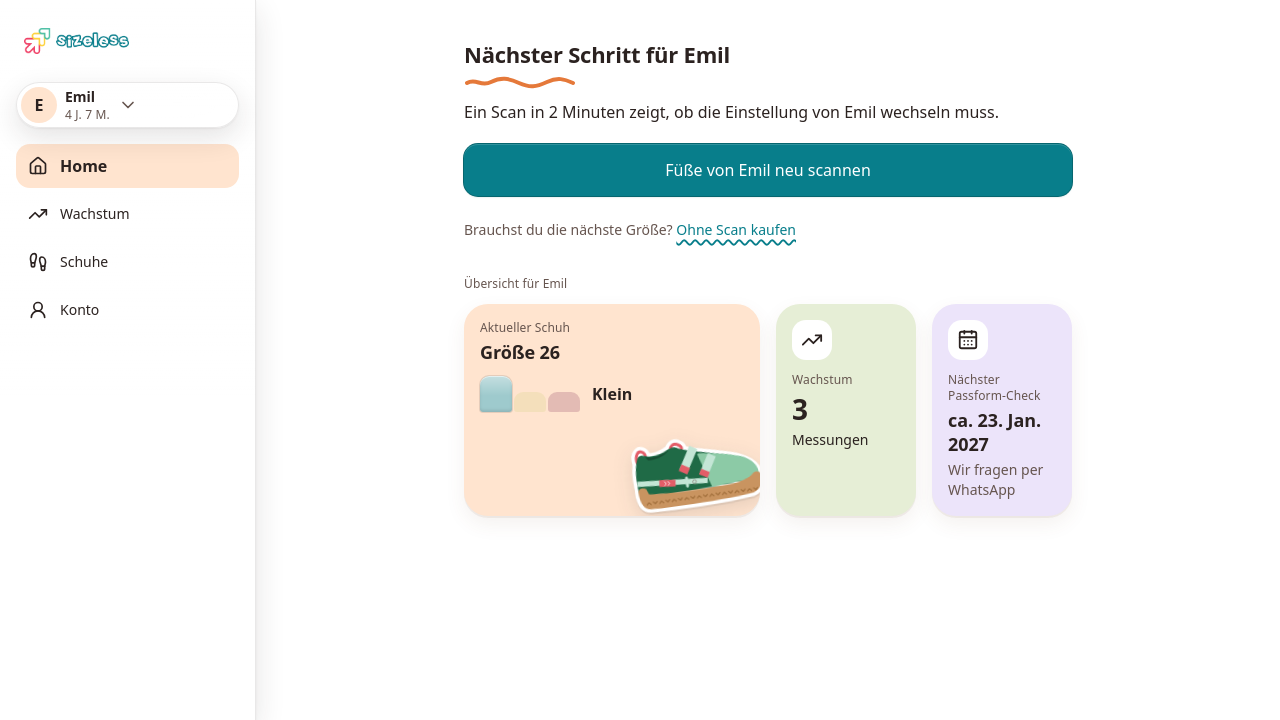
Test: routing › signs out back to Sign in
Click the link "Konto". click: [64, 310]
box: [28,300,99,320]
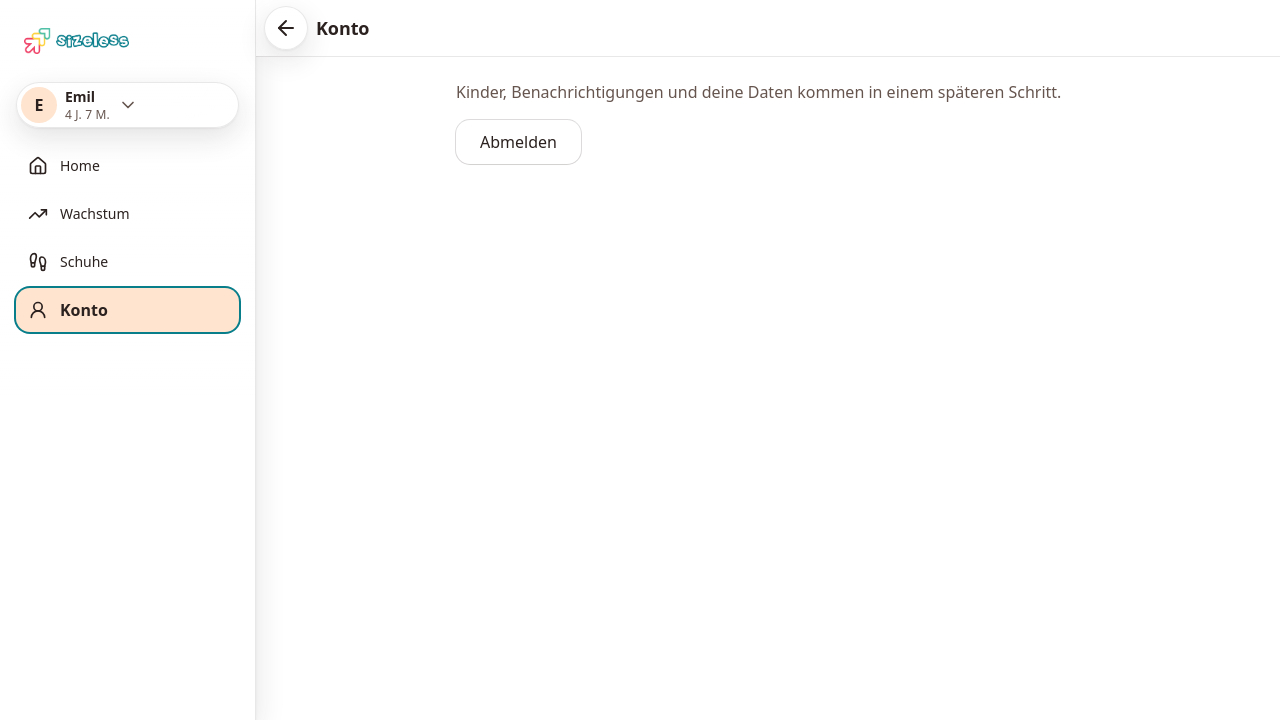
Click the button "Abmelden". click: [518, 142]
box: [456,120,581,164]
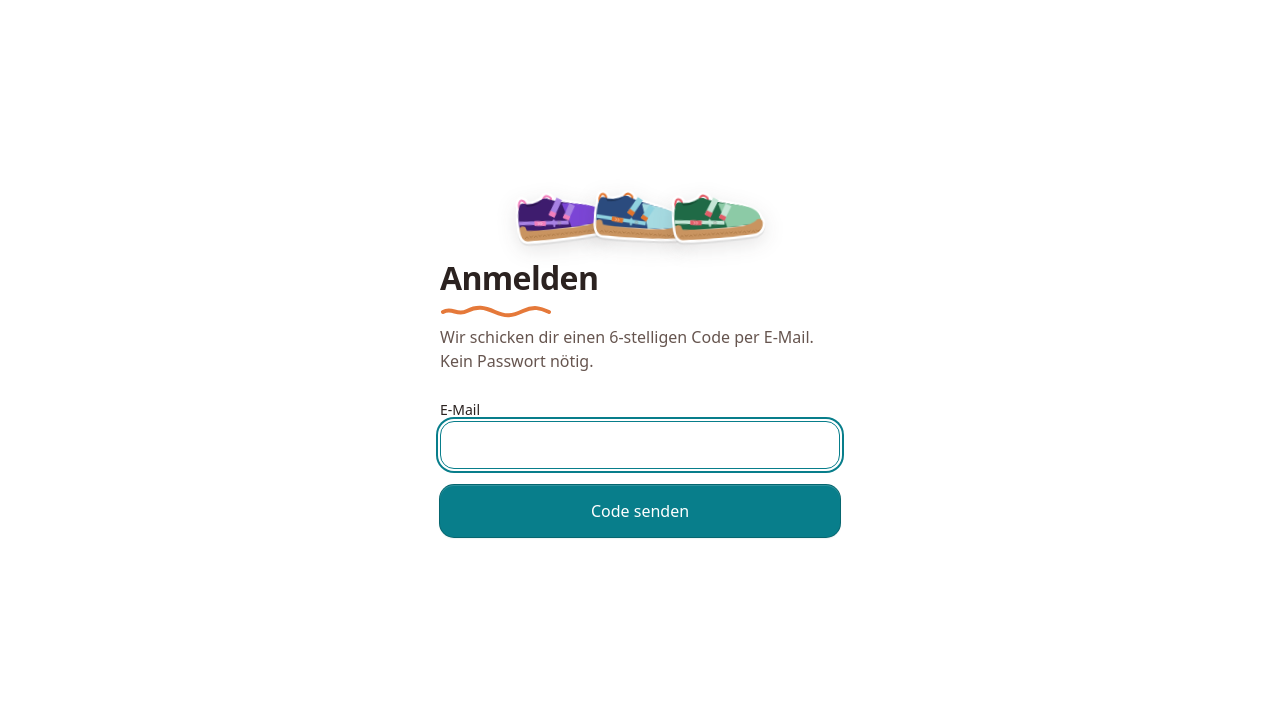
Expected: the heading "Anmelden" is shown, [440,256,598,317]
